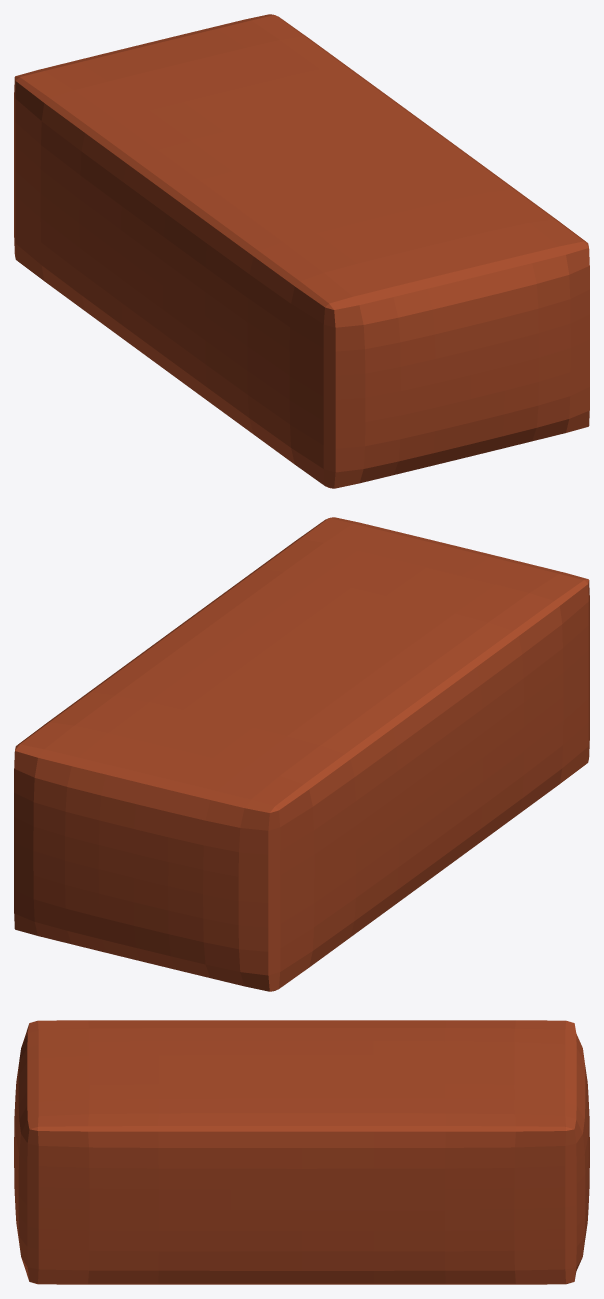
The model's file is brick.fbx.
The picture shows the model from 3 angles, top to bottom: view 1: azimuth 30°, elevation 25°; view 2: azimuth 150°, elevation 25°; view 3: azimuth 270°, elevation 25°; orthographic projection. The views are drawn at different scales.
Parts seen in each view (by area): view 1: Cube; view 2: Cube; view 3: Cube.
Boxes of the visible parts, x1=… form: Cube: x1=14, y1=14, x2=589, y2=488; Cube: x1=14, y1=517, x2=589, y2=991; Cube: x1=14, y1=1020, x2=589, y2=1284.
Size of the model in its own units: 204 by 137 by 429.
